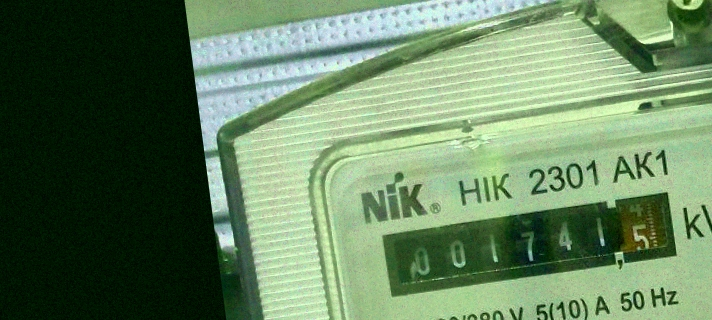0: (410, 242, 433, 278), (445, 235, 468, 271)
1: (481, 228, 502, 266), (590, 213, 609, 250)
4: (552, 217, 576, 254), (626, 199, 644, 219)
5: (628, 219, 651, 252)
7: (517, 227, 538, 264)
screen: (374, 184, 685, 304)
